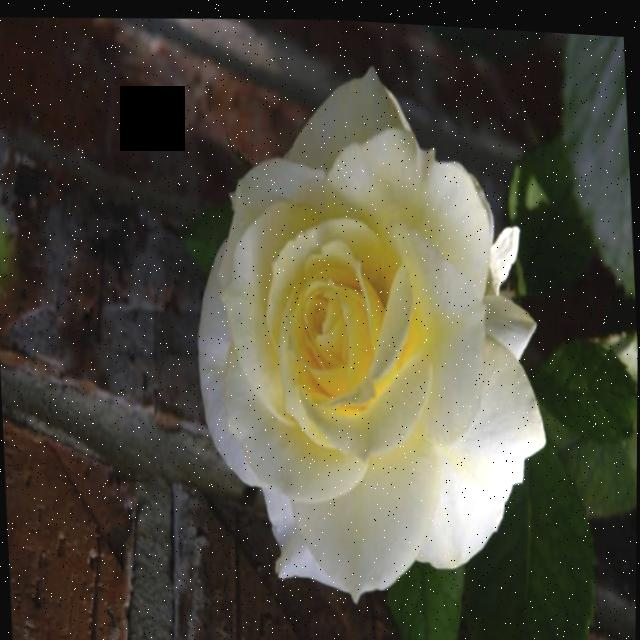rose: (150, 40, 569, 630)
